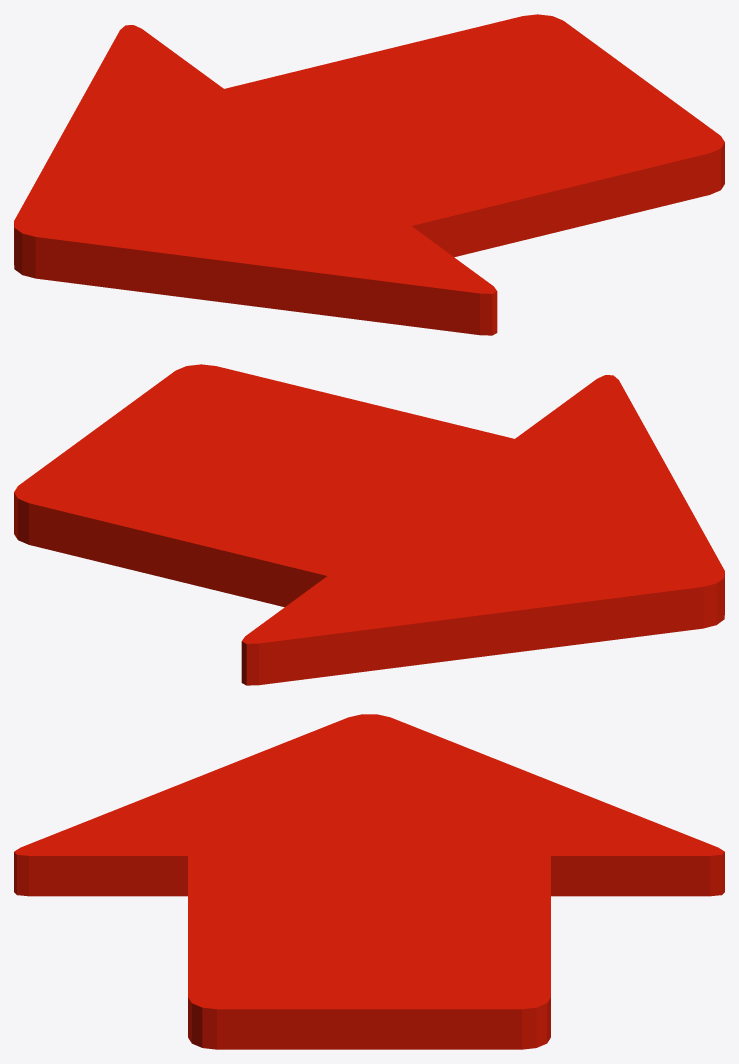
3 views of the same model, one above another, from view 1: azimuth 30°, elevation 25°; view 2: azimuth 150°, elevation 25°; view 3: azimuth 270°, elevation 25° (orthographic). The views are drawn at different scales.
Parts seen in each view (by area): view 1: 立方体.003; view 2: 立方体.003; view 3: 立方体.003.
Boxes of the visible parts, bbox=[...] form: 立方体.003: bbox=[14, 14, 724, 335]; 立方体.003: bbox=[14, 364, 724, 685]; 立方体.003: bbox=[14, 714, 724, 1049].
Bounding box in the file's own units: 385 × 24.55 × 392.
